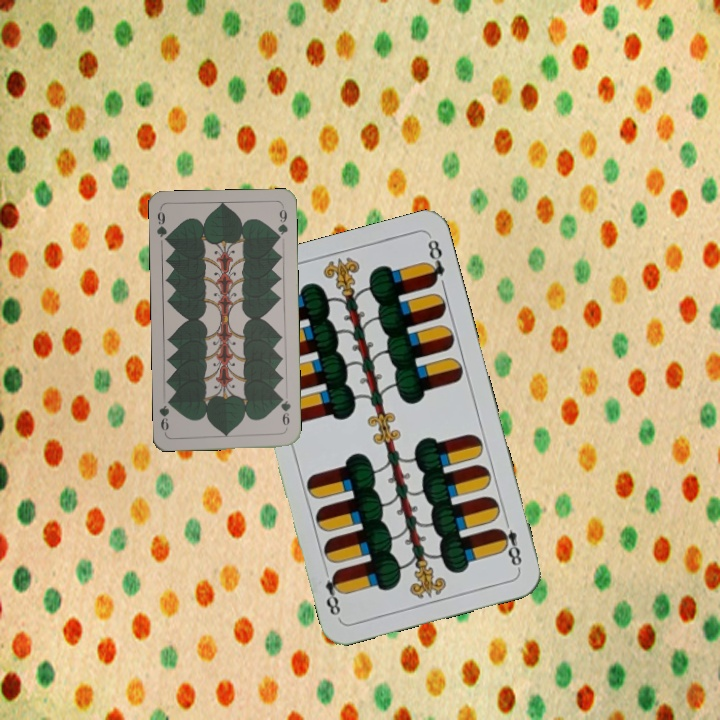E8: (494, 513, 525, 572)
G9: (153, 206, 172, 246), (276, 392, 293, 432)
